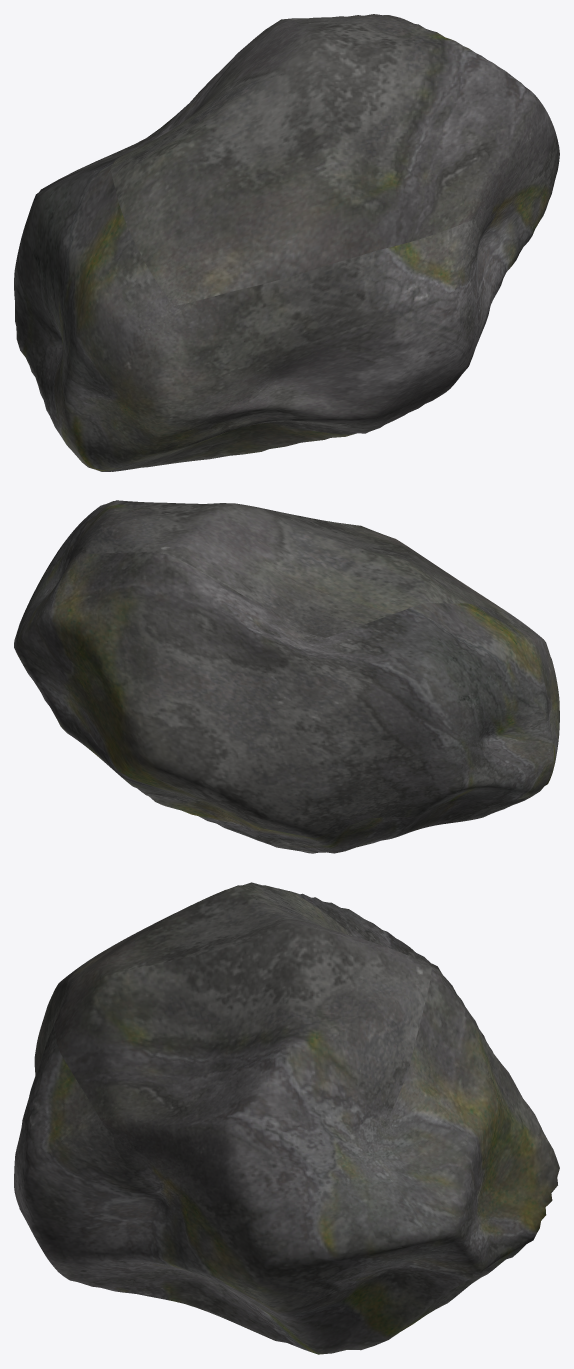
Rendered from RockVariant6.fbx.
3 views of the same model, one above another, from view 1: azimuth 30°, elevation 25°; view 2: azimuth 150°, elevation 25°; view 3: azimuth 270°, elevation 25° (orthographic). The views are drawn at different scales.
Visible parts, largest first — view 1: Cube.006; view 2: Cube.006; view 3: Cube.006.
Part boxes in pixels (x1,y1,x2,y2): Cube.006: (14, 14, 559, 471); Cube.006: (14, 500, 559, 853); Cube.006: (14, 882, 559, 1354).
Bounding box in the file's own units: 288 × 182 × 216.
Materials: 1 (1 with a texture image).
